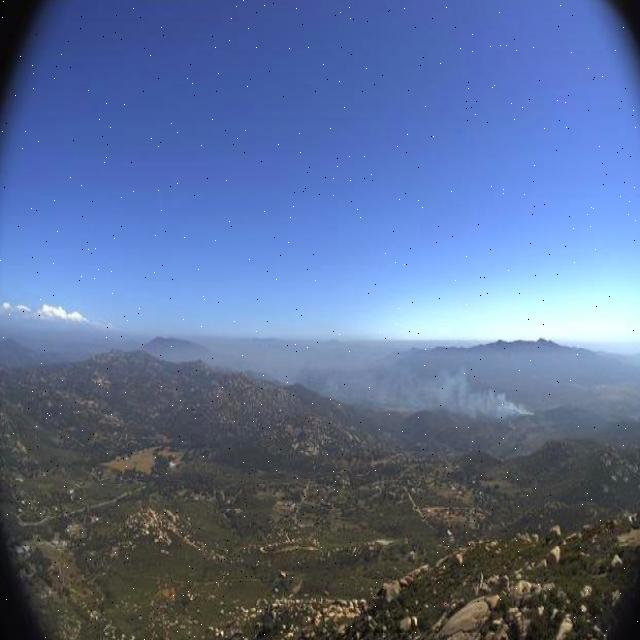smoke: (332, 358, 533, 420)
